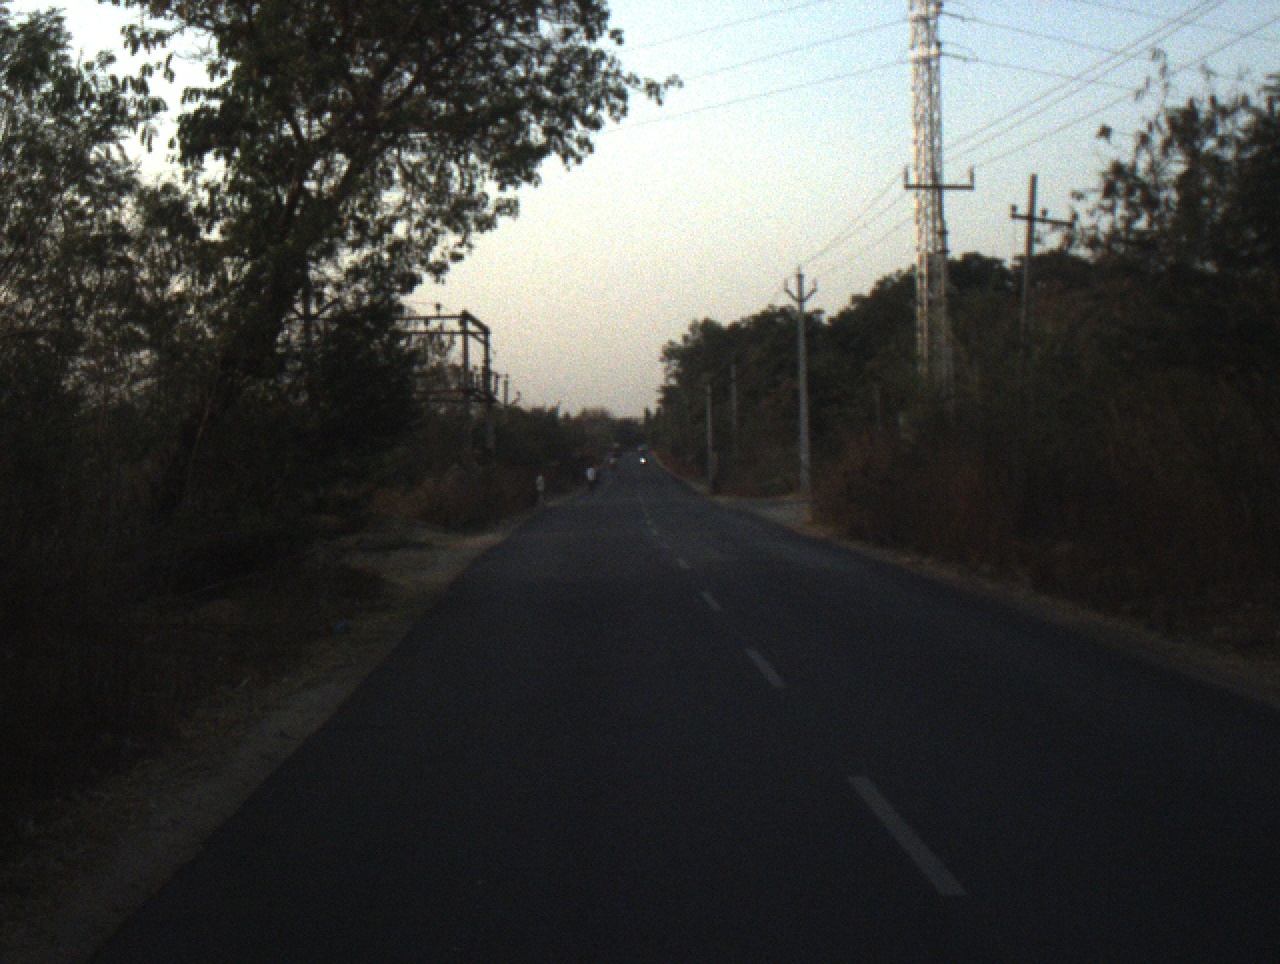bicycle: (589, 480, 597, 496)
motorcycle: (610, 464, 615, 471)
person: (536, 473, 548, 510)
rider: (586, 464, 597, 488), (610, 456, 616, 465)
vehicle fallback: (635, 449, 651, 467), (610, 441, 624, 460)
